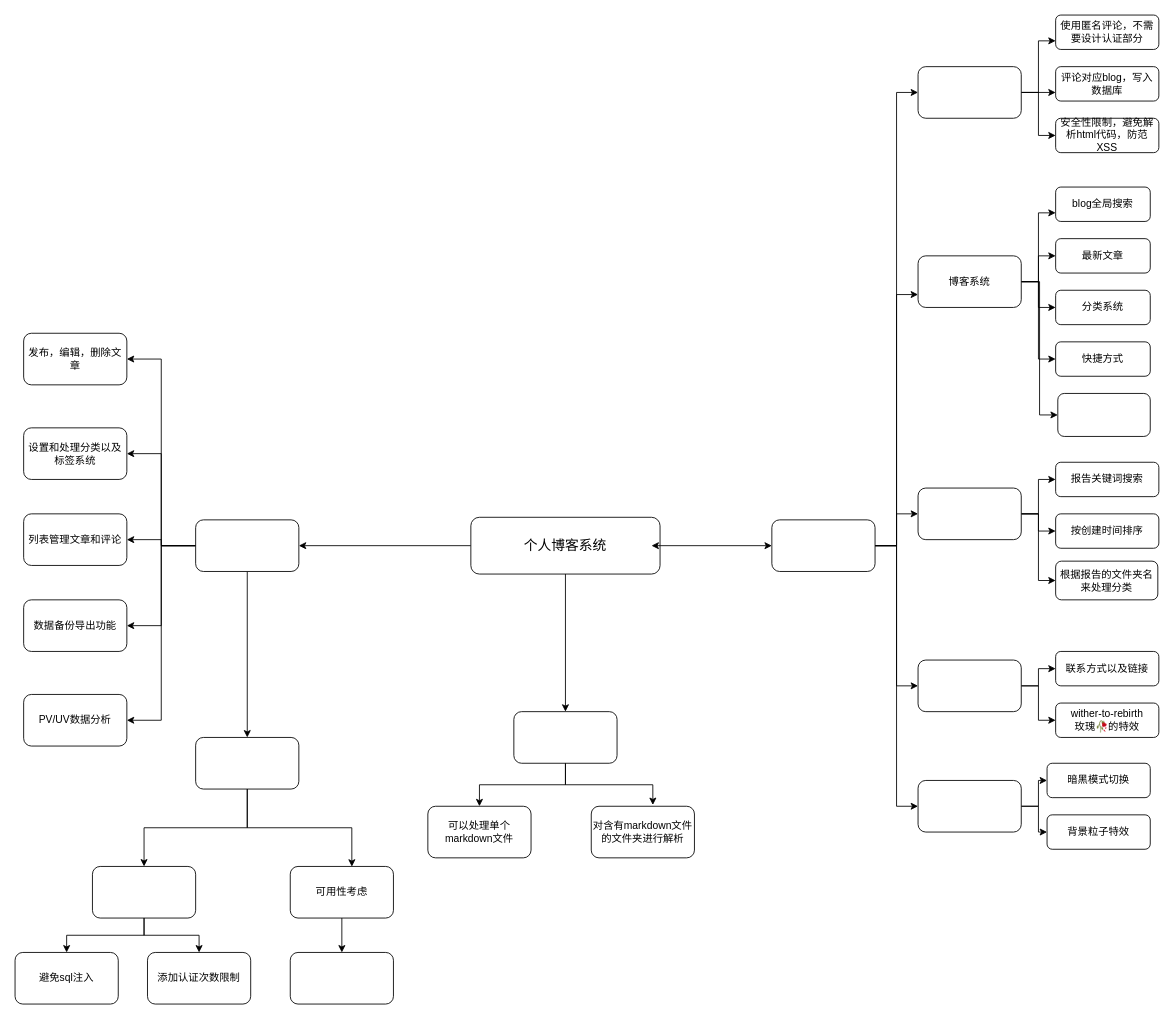
The diagram is 1174 pixels wide and 1019 high, and some of its shapes have lost their labels. Here are the shapes that lost their labels. From the top down, the box of each, then its label:
(917, 66, 1021, 118): 博客评论系统
(1057, 393, 1150, 436): 自动同步新添加的markdown文件夹
(917, 487, 1021, 540): 靶场报告系统
(195, 519, 299, 571): 管理端
(771, 519, 875, 571): 用户端
(917, 659, 1021, 712): 关于我
(513, 711, 617, 763): Markdown 解析功能
(195, 737, 299, 789): 管理端认证问题
(917, 780, 1021, 832): 前端样式设计
(92, 866, 196, 918): 安全性考虑
(289, 952, 393, 1004): 不提供普通用户访问管理端的窗口
